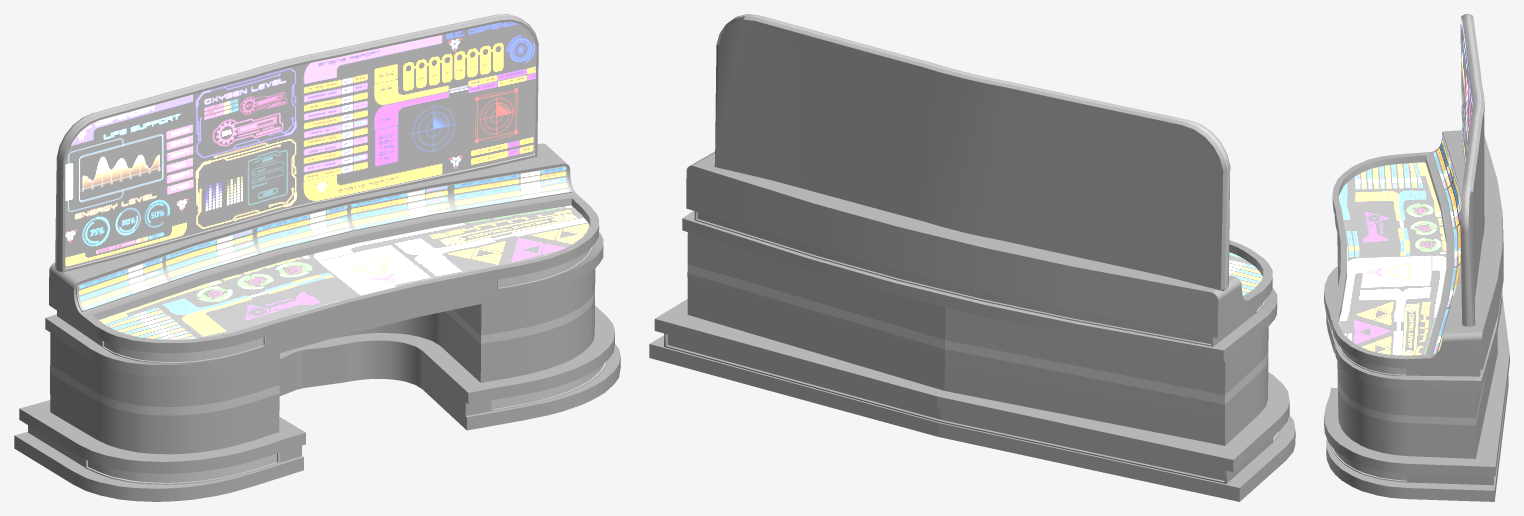
Rendered from SM_ConsoleSmall.fbx.
The picture shows the model from 3 angles, left to right: view 1: azimuth 30°, elevation 25°; view 2: azimuth 150°, elevation 25°; view 3: azimuth 270°, elevation 25°; orthographic projection. The views are drawn at different scales.
Parts seen in each view (by area): view 1: SM_ConsoleSmall_LOD0; view 2: SM_ConsoleSmall_LOD0; view 3: SM_ConsoleSmall_LOD0.
Part boxes in pixels (x1,y1,x2,y2): SM_ConsoleSmall_LOD0: (14, 14, 620, 501); SM_ConsoleSmall_LOD0: (649, 14, 1295, 501); SM_ConsoleSmall_LOD0: (1324, 14, 1509, 501).
Bounding box in the file's own units: 275 × 157 × 93.74.
